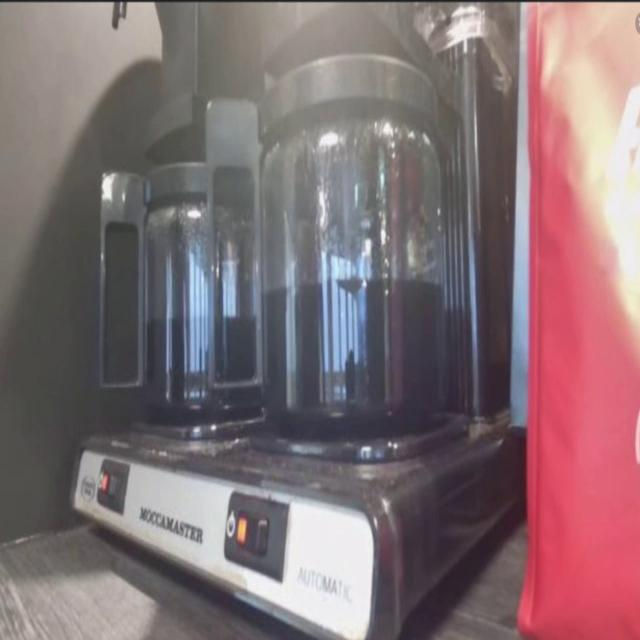coffee: (250, 45, 456, 451), (133, 133, 266, 434)
